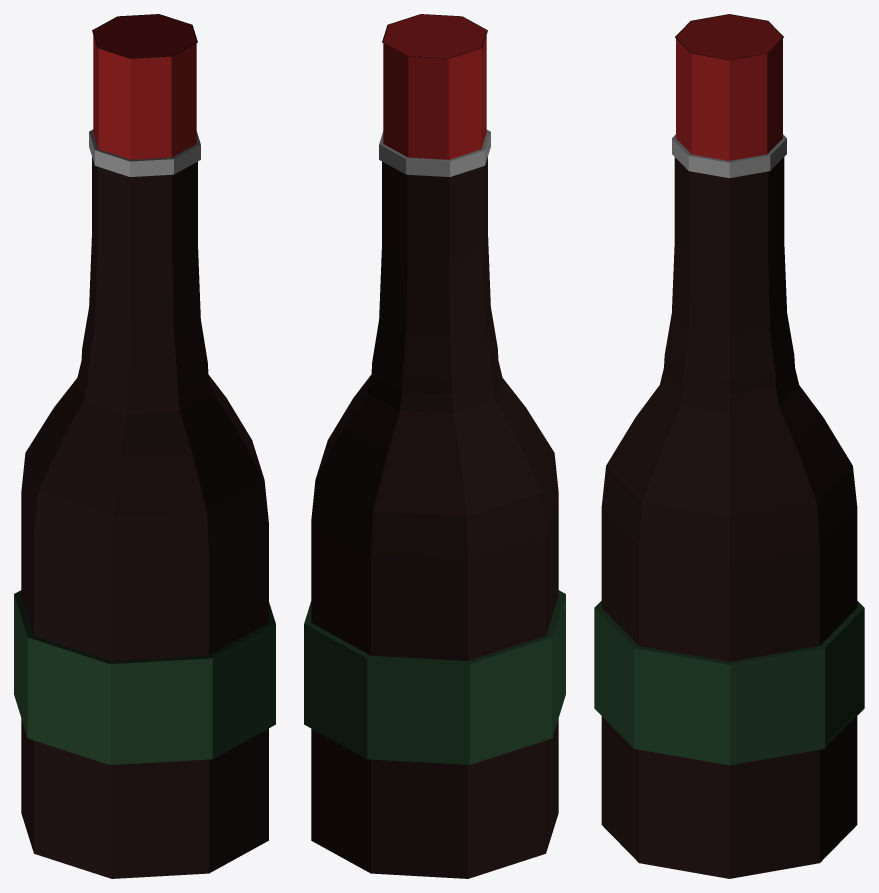
Rendered from Wine Bottle.fbx.
The picture shows the model from 3 angles, left to right: view 1: azimuth 30°, elevation 25°; view 2: azimuth 150°, elevation 25°; view 3: azimuth 270°, elevation 25°; orthographic projection.
Visible parts, largest first — view 1: Node 0; view 2: Node 0; view 3: Node 0.
Boxes of the visible parts, box(x1,y1,x2,y2) form: Node 0: box(14, 14, 275, 878); Node 0: box(304, 14, 565, 878); Node 0: box(594, 14, 864, 878).
Size of the model in its own units: 0.1705 by 0.5487 by 0.1705.
